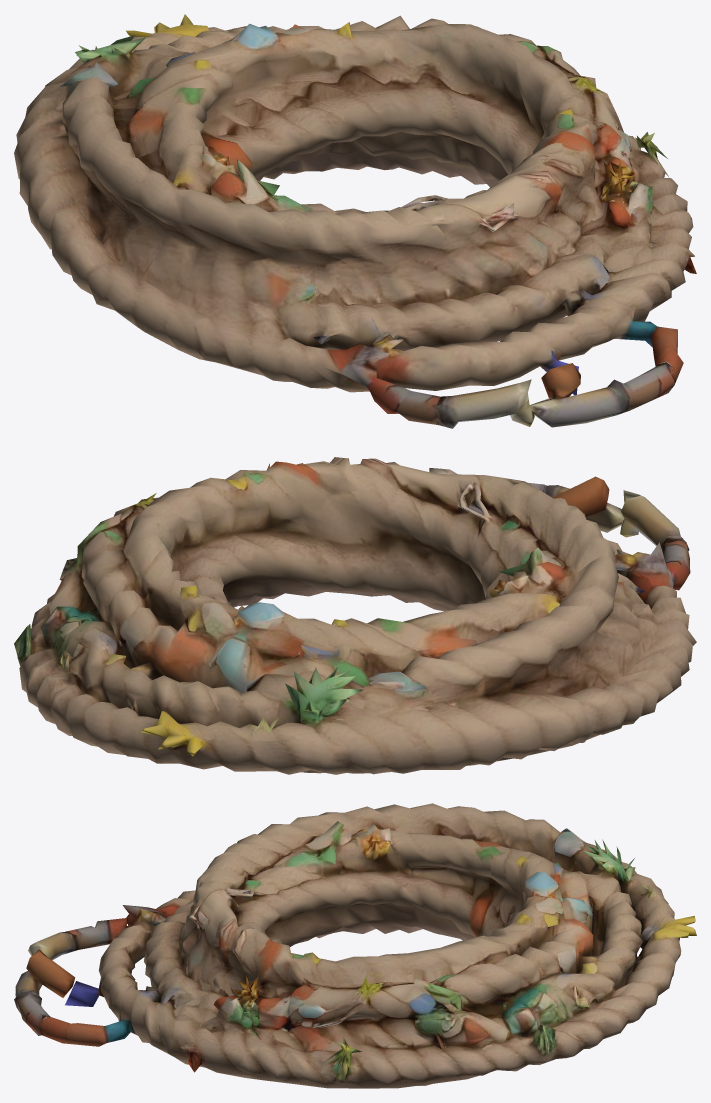
File: lib-ropecoil.glb
3 renders of one model, top to bottom at view 1: azimuth 30°, elevation 25°; view 2: azimuth 150°, elevation 25°; view 3: azimuth 270°, elevation 25°, orthographic. The views are drawn at different scales.
Visible parts, largest first — view 1: tripo_node_937aca17-6b74-4ef0-b72f-d65522d5ac7a; view 2: tripo_node_937aca17-6b74-4ef0-b72f-d65522d5ac7a; view 3: tripo_node_937aca17-6b74-4ef0-b72f-d65522d5ac7a.
Part boxes in pixels (x1,y1,x2,y2): tripo_node_937aca17-6b74-4ef0-b72f-d65522d5ac7a: (14,14,696,428); tripo_node_937aca17-6b74-4ef0-b72f-d65522d5ac7a: (14,457,696,774); tripo_node_937aca17-6b74-4ef0-b72f-d65522d5ac7a: (14,803,696,1088).
Bounding box in the file's own units: 0.7521 × 0.2052 × 0.9993.
1 material, 1 textured.
